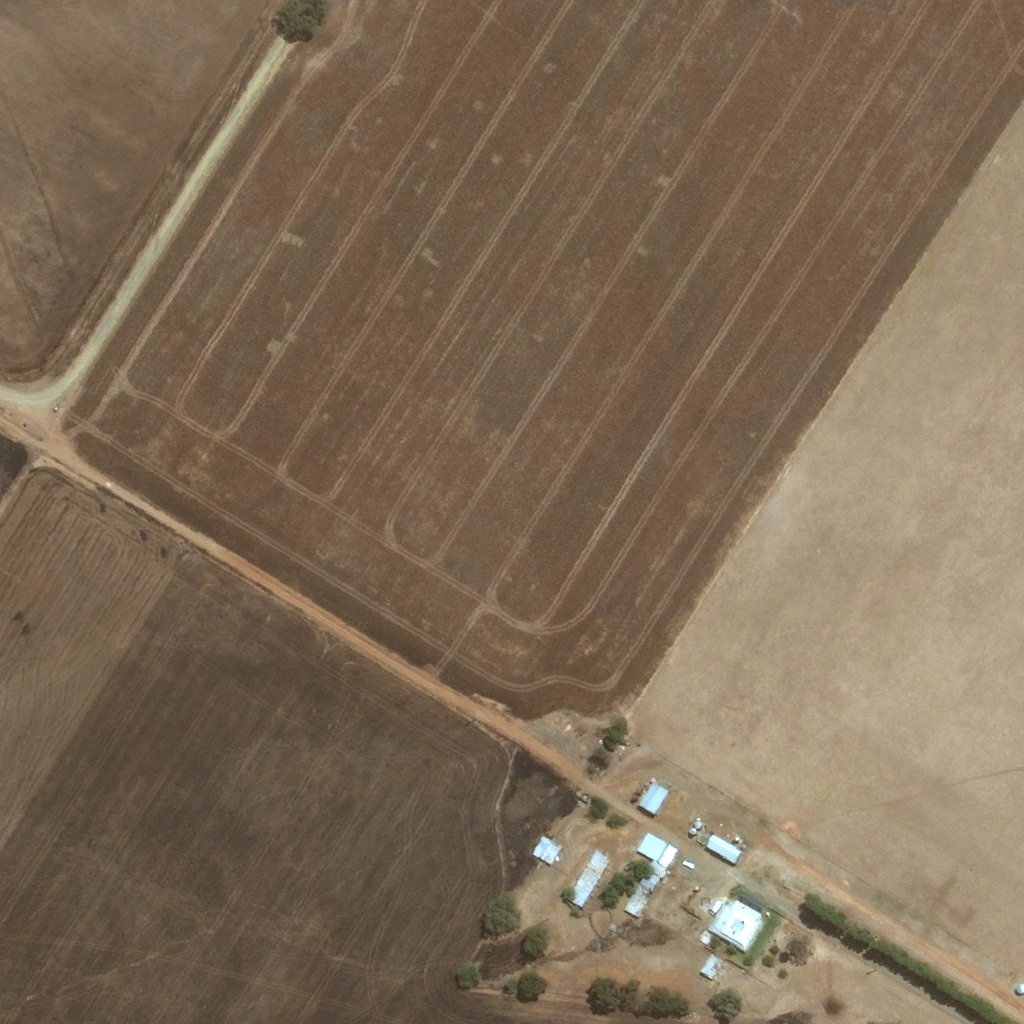0 no-damage: (706, 898, 764, 949), (566, 851, 609, 908), (703, 832, 741, 864), (637, 781, 669, 814), (622, 885, 650, 918), (530, 837, 560, 867), (636, 831, 666, 860), (638, 860, 666, 891), (698, 953, 718, 981), (709, 899, 723, 913), (697, 934, 709, 944), (689, 827, 696, 833), (694, 821, 700, 828)
1 minor-damage: (656, 843, 677, 868)
4 un-classified: (548, 712, 560, 723), (560, 720, 571, 730), (947, 939, 957, 950), (724, 828, 734, 837)
